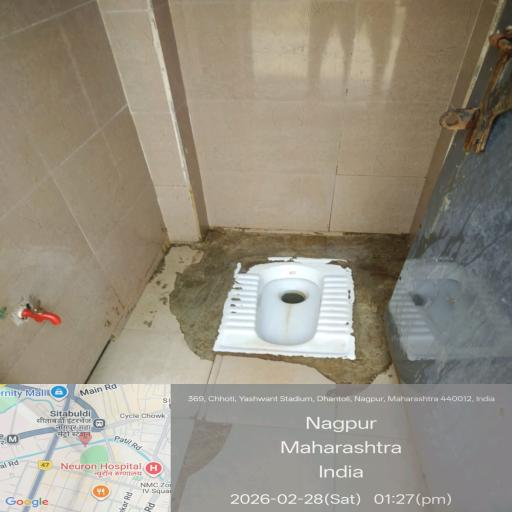clean_floor: (97, 34, 486, 184)
clean_indian: (219, 258, 372, 370)
partial_dirty_floor: (145, 263, 471, 505)
